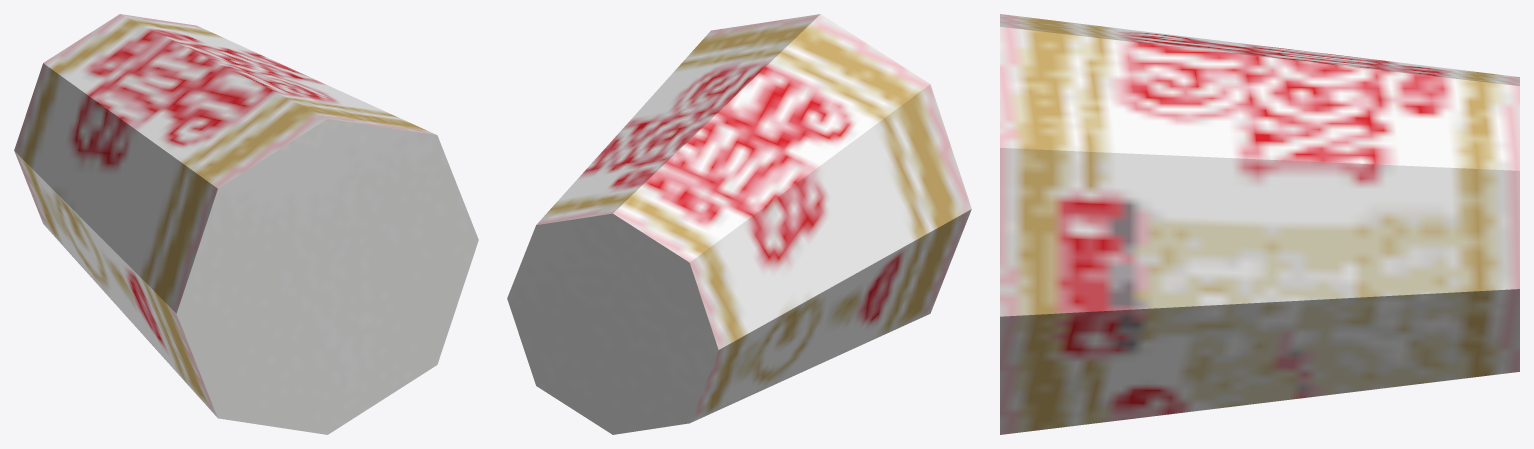
Rendered from Cup of Noodles (Unopened).obj.
3 views of the same model, side by side, from view 1: azimuth 30°, elevation 25°; view 2: azimuth 150°, elevation 25°; view 3: azimuth 270°, elevation 25° (orthographic). The views are drawn at different scales.
Visible parts, largest first — view 1: Cup; view 2: Cup; view 3: Cup.
Part boxes in pixels (x1,y1,x2,y2): Cup: (14, 14, 478, 434); Cup: (507, 14, 971, 434); Cup: (1000, 14, 1519, 434).
Size of the model in its own units: 1.68 by 1.68 by 2.
Materials: 1 (1 with a texture image).
